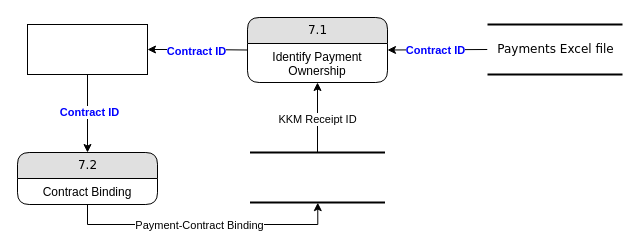
The diagram is 641 pixels wide and 250 high, and some of its shapes have lost their labels. The centre of each missing label's shape, as x and y in pixels:
"1C File DB" belongs at point (317, 177).
"Bookkeeper" belongs at point (87, 49).
